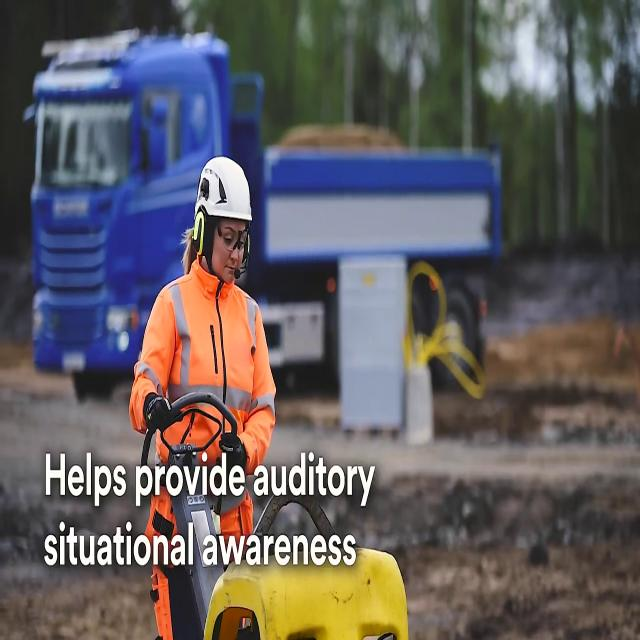earmuff: (192, 204, 211, 258)
glasses: (215, 222, 251, 252)
helmet: (195, 154, 256, 223)
